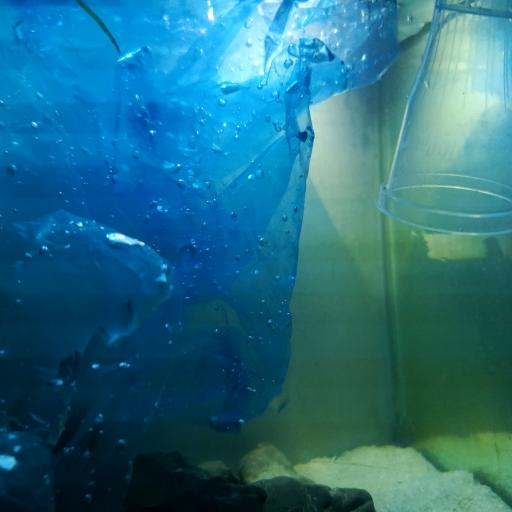plastic_bag: (0, 0, 402, 512)
plastic_cup: (375, 0, 512, 234)
